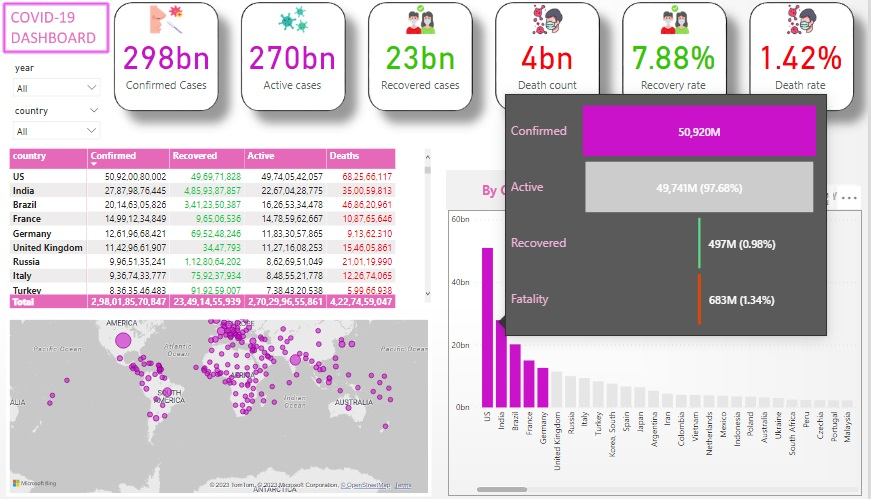

Layout of this report page (visuals, bound fields, positions):
{"tool":"powerbi","page":{"name":"Page 1","canvas":[1280,750],"ordinal":0},"visuals":[{"type":"card","title":"Confirmed cases","fields":{"Values":["Measure Table.Cumm. Confirmed cases (Total)"]},"box":[172.7,48.7,147.6,97.4],"z":0},{"type":"card","title":"Active cases","fields":{"Values":["Measure Table.Active cases (Total)"]},"box":[358.8,48.7,147.6,97.4],"z":1000},{"type":"card","title":"Fatality count","fields":{"Values":["Measure Table.Fatality count (Total)"]},"box":[733.8,48.7,147.6,97.4],"z":2000},{"type":"card","title":"Recovered cases","fields":{"Values":["Measure Table.Recovered cases (Total)"]},"box":[546.3,48.7,147.6,97.4],"z":3000},{"type":"card","title":"Fatality rate","fields":{"Values":["Measure Table.Fatality rate"]},"box":[1107.3,48.7,147.6,97.4],"z":4000},{"type":"card","title":"Recovery rate","fields":{"Values":["Measure Table.Recovery rate"]},"box":[919.8,48.7,147.6,97.4],"z":5000},{"type":"pivotTable","fields":{"Rows":["country_names.country"],"Values":["Measure Table.Cumm. Confirmed cases (Total)","Measure Table.Cumm. Recovered cases (Total)","Measure Table.Active cases (Total)","Measure Table.Cumm. Fatality count (Total)"]},"box":[10.3,221,630.6,246.1],"z":6000},{"type":"textbox","box":[878.4,215.6,200.8,42.8],"z":7000},{"type":"map","fields":{"Category":["country_names.country"],"Size":["Measure Table.Cumm. Confirmed cases (Total)"]},"box":[10.3,472.4,627.5,265.7],"z":8000},{"type":"actionButton","title":"UnselectedByYearMonth","box":[859.3,278.5,203,37],"z":9000},{"type":"actionButton","title":"UnselectedSamePeriod","box":[1062.2,278.5,203,35.6],"z":10000},{"type":"actionButton","title":"SelectedByCountry","box":[659.1,258,204.1,59.5],"z":14000},{"type":"columnChart","title":"By country viz","fields":{"Category":["country_names.country"],"Y":["Measure Table.Cumm. Confirmed cases (Total)"]},"box":[661.4,317.4,609.7,420.8],"z":15000},{"type":"slicer","fields":{"Values":["calendar table.year"]},"box":[10.3,94.5,149.1,63.5],"z":18000},{"type":"slicer","fields":{"Values":["country_names.country"]},"box":[10.3,157.7,148.8,63.4],"z":19000}]}

Visuals, with their boxes in screenshot pixels (x1, y1, x2, y2), scaled from the page's 1280x750 canvas onto the 871x499 screenshot:
"Confirmed cases" card: x1=118, y1=32, x2=218, y2=97
"Active cases" card: x1=244, y1=32, x2=345, y2=97
"Fatality count" card: x1=499, y1=32, x2=600, y2=97
"Recovered cases" card: x1=372, y1=32, x2=472, y2=97
"Fatality rate" card: x1=753, y1=32, x2=854, y2=97
"Recovery rate" card: x1=626, y1=32, x2=726, y2=97
pivotTable - country_names.country x Measure Table.Cumm. Confirmed cases (Total): x1=7, y1=147, x2=436, y2=311
textbox: x1=598, y1=143, x2=734, y2=172
map - country_names.country x Measure Table.Cumm. Confirmed cases (Total): x1=7, y1=314, x2=434, y2=491
"UnselectedByYearMonth" actionButton: x1=585, y1=185, x2=723, y2=210
"UnselectedSamePeriod" actionButton: x1=723, y1=185, x2=861, y2=209
"SelectedByCountry" actionButton: x1=448, y1=172, x2=587, y2=211
"By country viz" columnChart: x1=450, y1=211, x2=865, y2=491
slicer - calendar table.year: x1=7, y1=63, x2=108, y2=105
slicer - country_names.country: x1=7, y1=105, x2=108, y2=147
